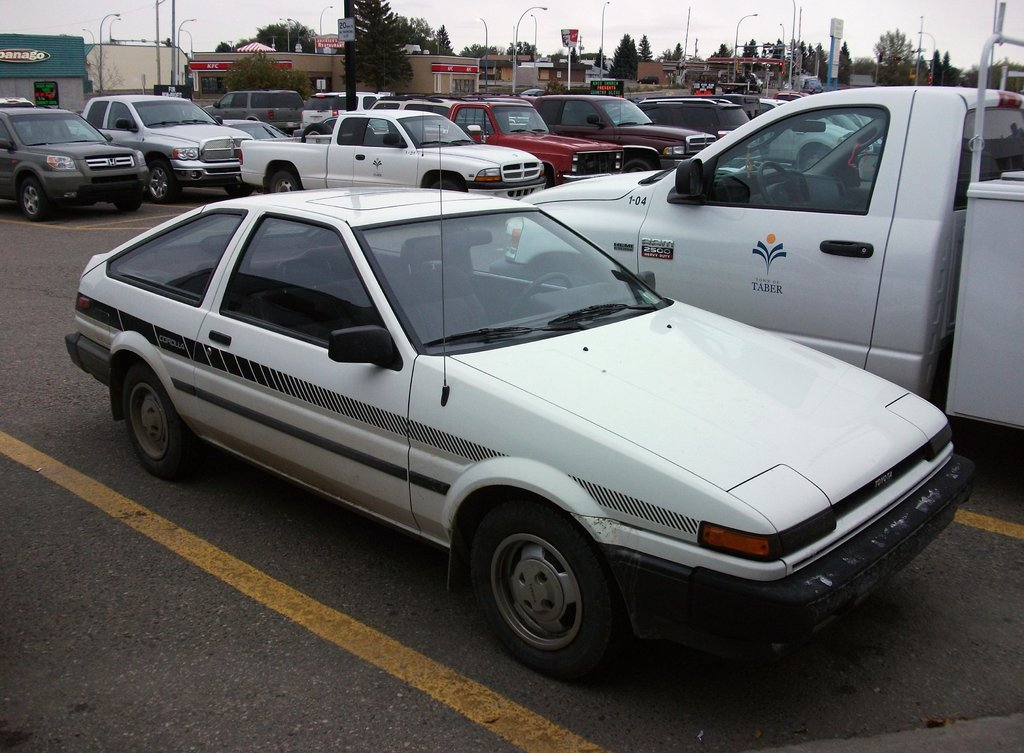Car: (64, 122, 977, 681), (0, 90, 814, 202)
